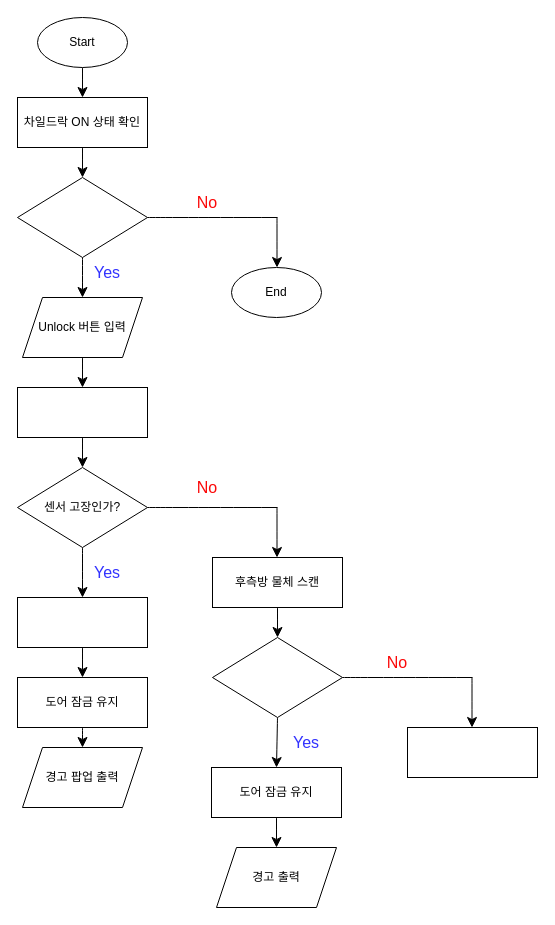
This 555x925 diagram has some shape labels left out. The box of each missing label's shape, as (x1, y1, x2, y2) in pixels:
Safe State 진입: (16, 596, 148, 648)
도어 잠금 해제: (406, 726, 538, 778)
위험 접근인가?: (212, 636, 342, 718)
차일드락이 ON인가?: (16, 176, 148, 258)
후측방 센서 활성화: (16, 386, 148, 438)
